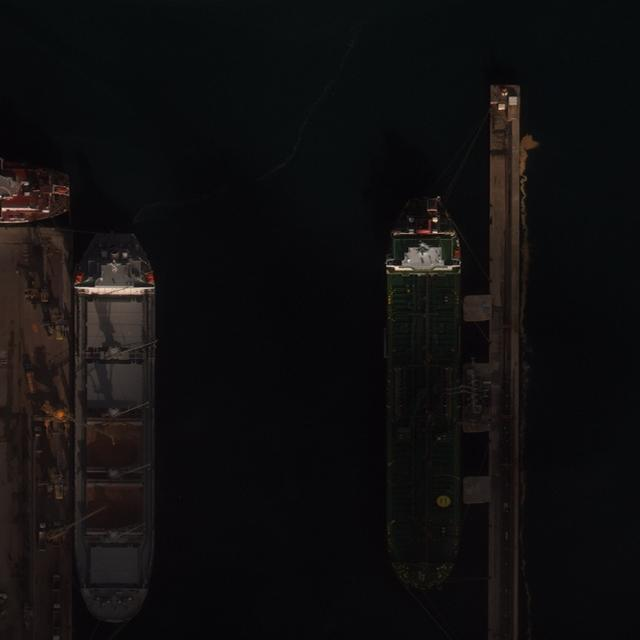Cargo: (74, 232, 158, 626)
Container Ship: (1, 156, 72, 223)
Oil Tanker: (383, 195, 465, 590)
